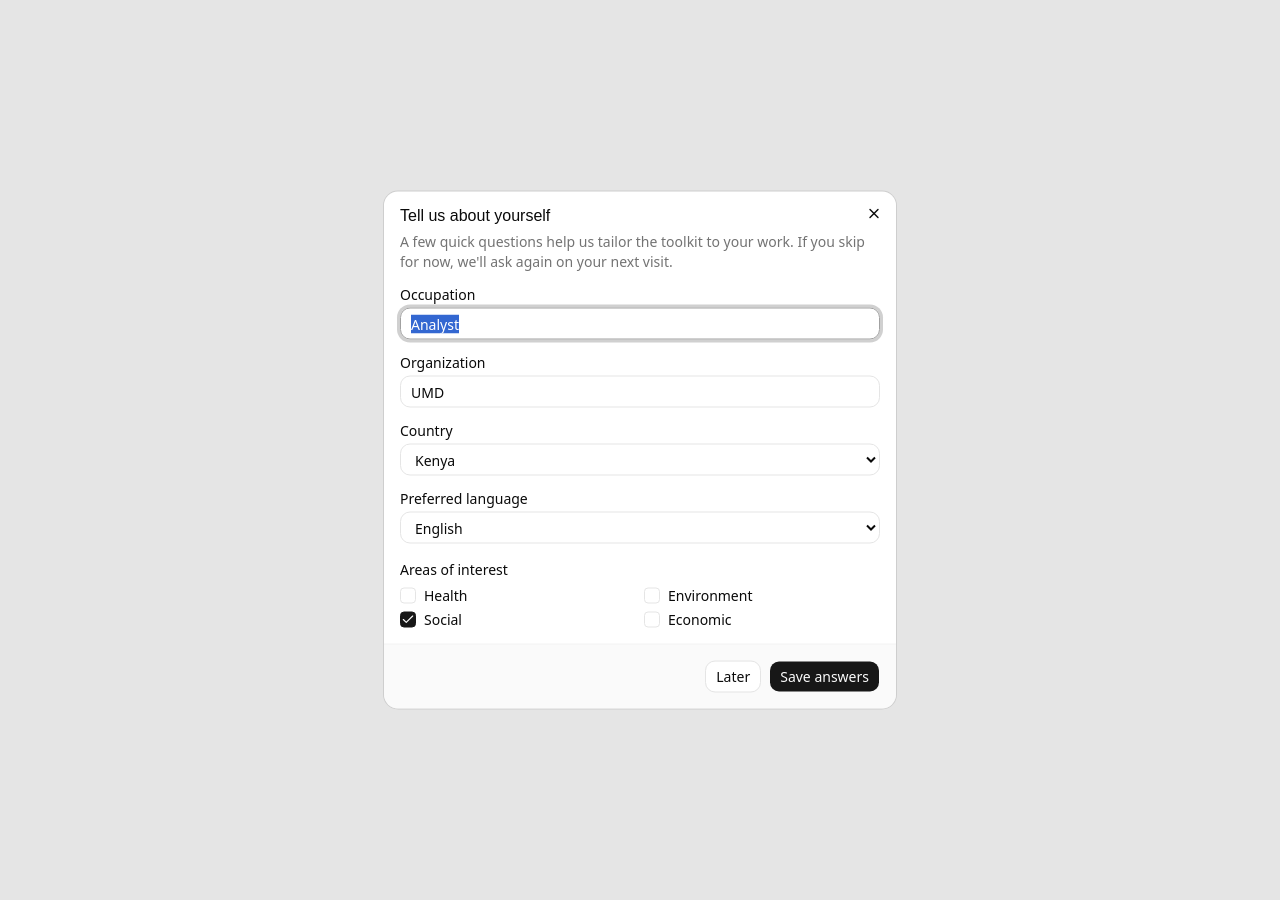
Test: OnboardingDialog › shows the server's message when saving fails
Click the button "Save answers".
click(825, 676)  # box [769,660,880,692]
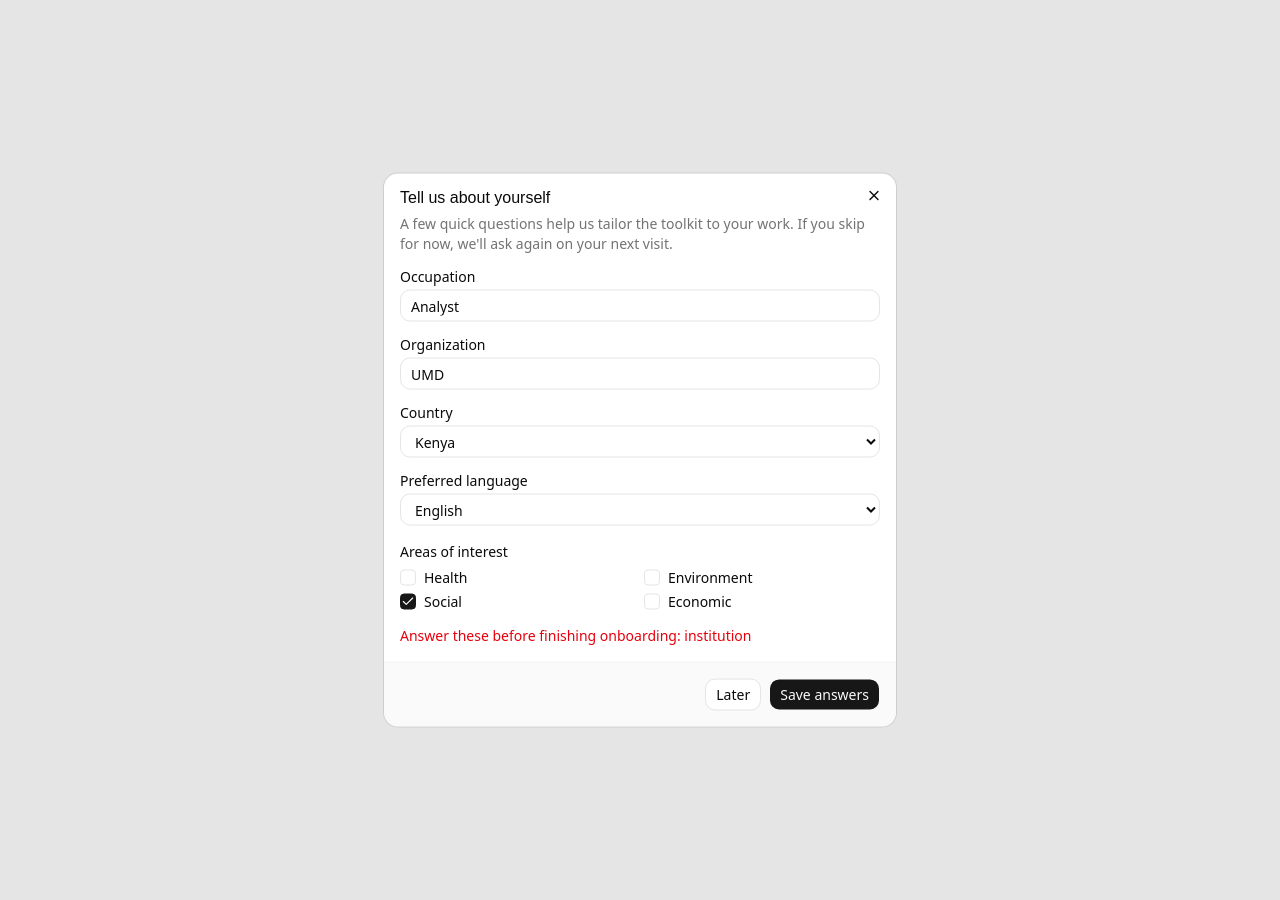
expect the message shows "Answer these before finishing onboarding": met, box [400,626,751,644]
